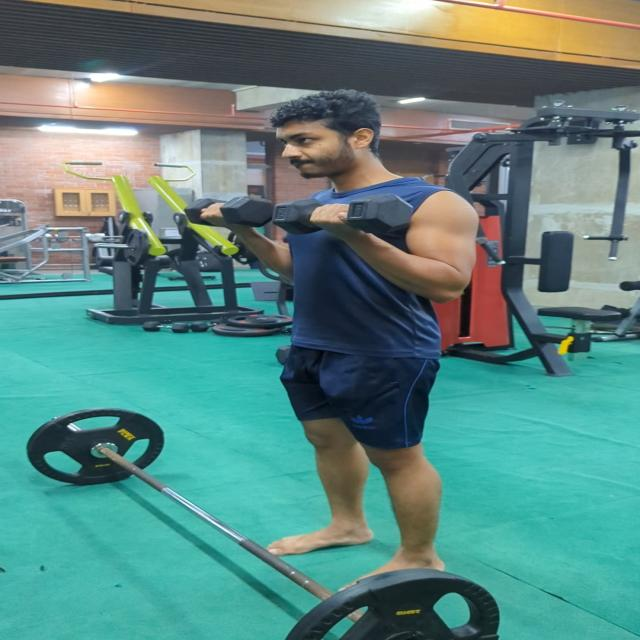Normal_DumbbellBicepCurls: (186, 90, 479, 592)
